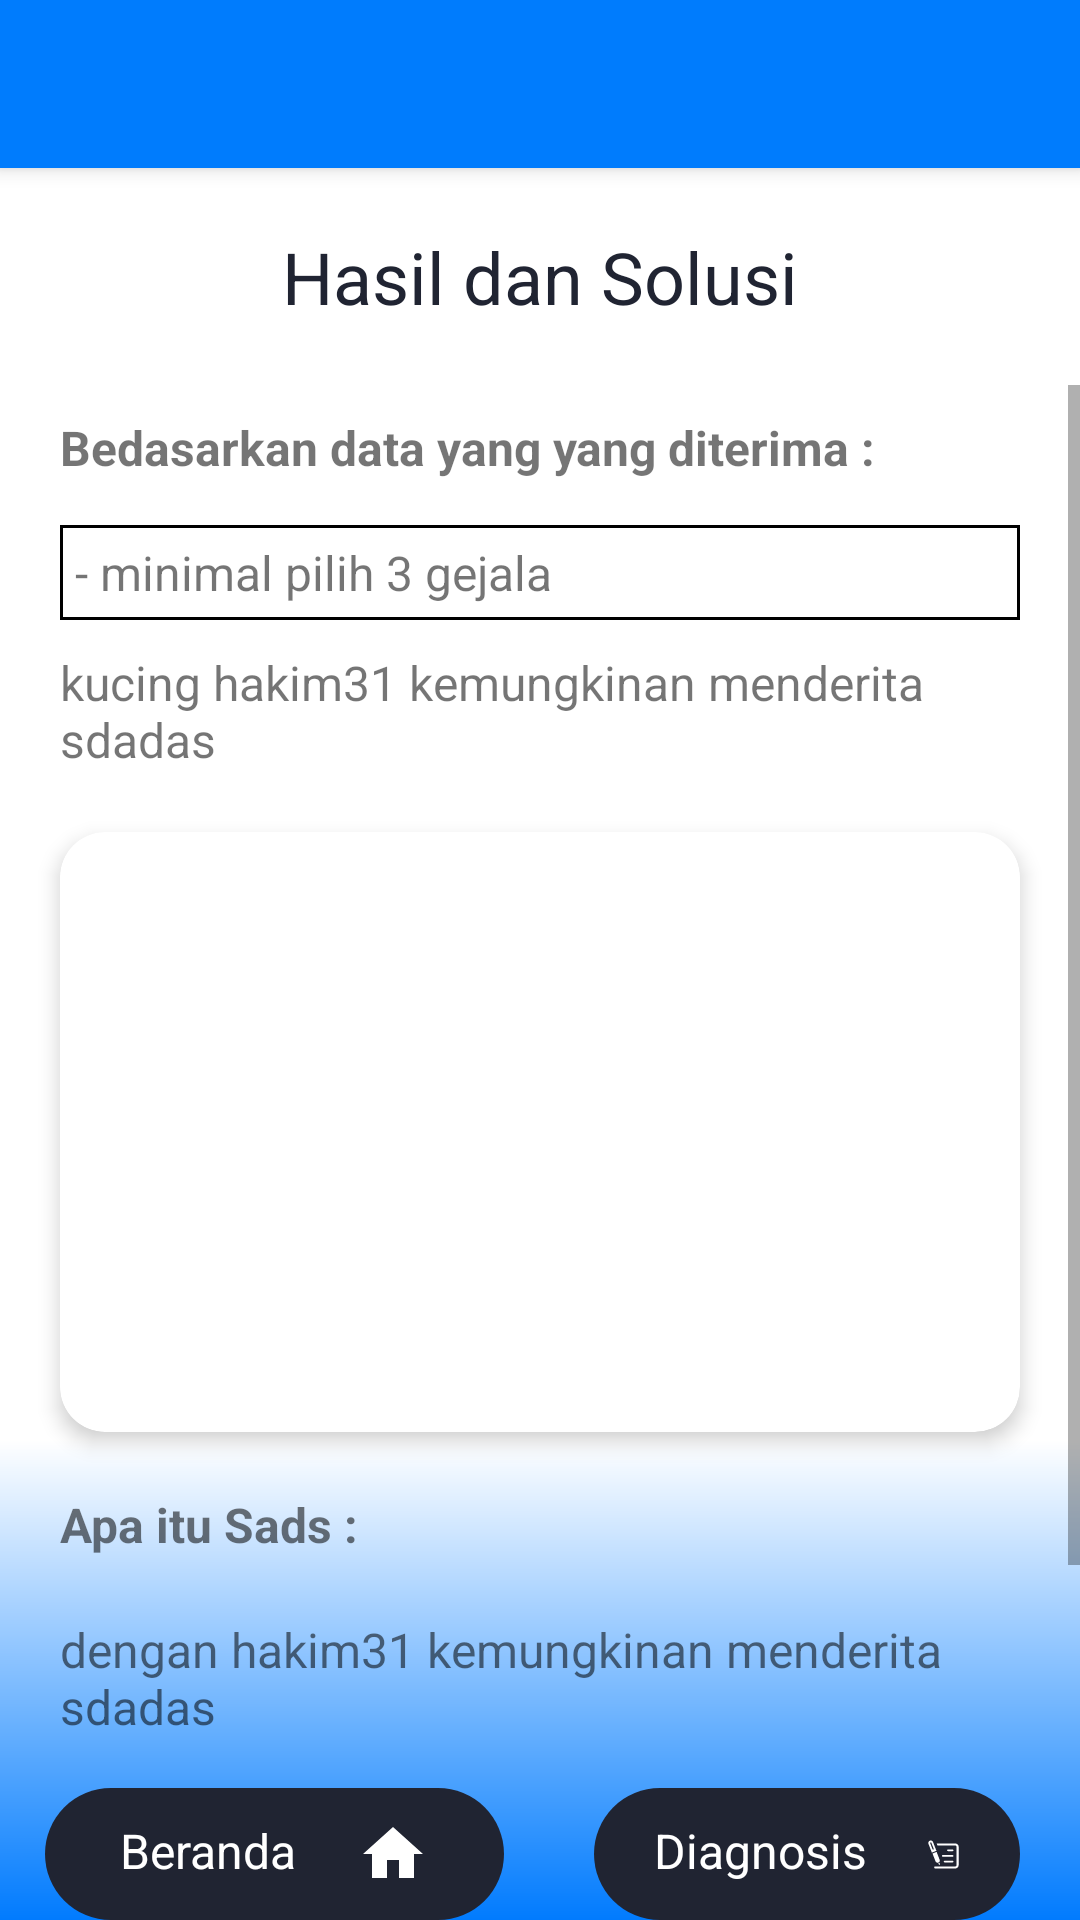

Screen size 1080 x 1920. Icon name, then its center in pixels as (x,y):
home: (393,1852)
